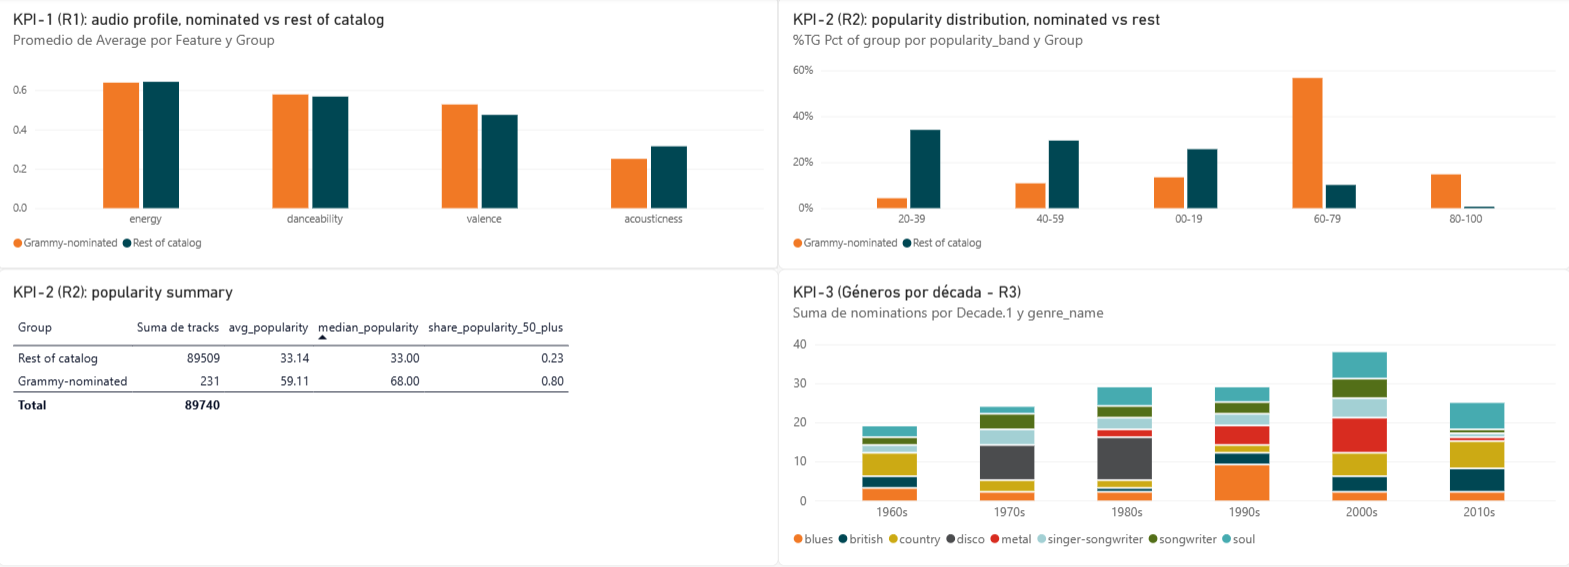

The page's visual inventory and layout, read from the dashboard file:
{"tool":"powerbi","page":{"name":"Página 1","canvas":[1920,1080],"ordinal":0},"visuals":[{"type":"clusteredColumnChart","title":"KPI-1 (R1): audio profile, nominated vs rest of catalog","fields":{"Category":["public kpi_r1_audio_profile_overall.Feature"],"Series":["public kpi_r1_audio_profile_overall.Group"],"Y":["Avg(public kpi_r1_audio_profile_overall.Average)"]},"box":[0,0,892,312],"z":0},{"type":"clusteredColumnChart","title":"KPI-2 (R2): popularity distribution, nominated vs rest","fields":{"Category":["public kpi_r2_popularity_bands.popularity_band"],"Series":["public kpi_r2_popularity_bands.Group"],"Y":["public kpi_r2_popularity_bands.Pct of group"]},"box":[892,0,906,312],"z":1000},{"type":"tableEx","title":"KPI-2 (R2): popularity summary","fields":{"Values":["public kpi_r2_popularity_summary.Group","Sum(public kpi_r2_popularity_summary.tracks)","public kpi_r2_popularity_summary.avg_popularity","public kpi_r2_popularity_summary.median_popularity","public kpi_r2_popularity_summary.share_popularity_50_plus"]},"box":[0,312,892,340],"z":2000},{"type":"columnChart","fields":{"Category":["public kpi_r3_genre_by_decade.Decade.1"],"Series":["public kpi_r3_genre_by_decade.genre_name"],"Y":["Sum(public kpi_r3_genre_by_decade.nominations)"]},"box":[892,312,906,340],"z":3000}]}

Visuals, with their boxes on the page's 1920x1080 design canvas (x1, y1, x2, y2). These are canvas units, not pixel positions in the 1569x567 screenshot, which may show the page scaled, cropped or inside an application window:
"KPI-1 (R1): audio profile, nominated vs rest of catalog" clusteredColumnChart: x1=0 y1=0 x2=892 y2=312
"KPI-2 (R2): popularity distribution, nominated vs rest" clusteredColumnChart: x1=892 y1=0 x2=1798 y2=312
"KPI-2 (R2): popularity summary" tableEx: x1=0 y1=312 x2=892 y2=652
columnChart - public kpi_r3_genre_by_decade.Decade.1 x public kpi_r3_genre_by_decade.genre_name: x1=892 y1=312 x2=1798 y2=652
